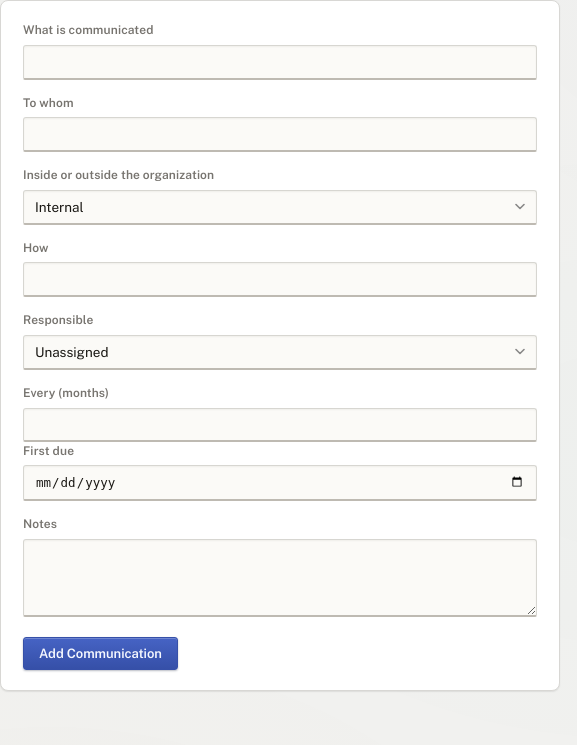
Test: CommunicationForm › won't take half a schedule
The image size is (577, 745).
In the field labelled "What is communicated": (280, 62) [23,45,537,80], type "Update"
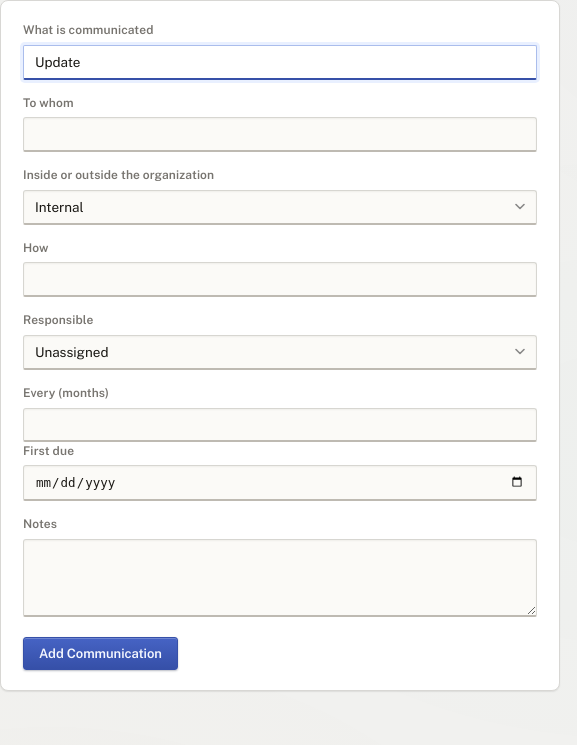
In the field labelled "To whom": (280, 135) [23,117,537,152], type "Staff"
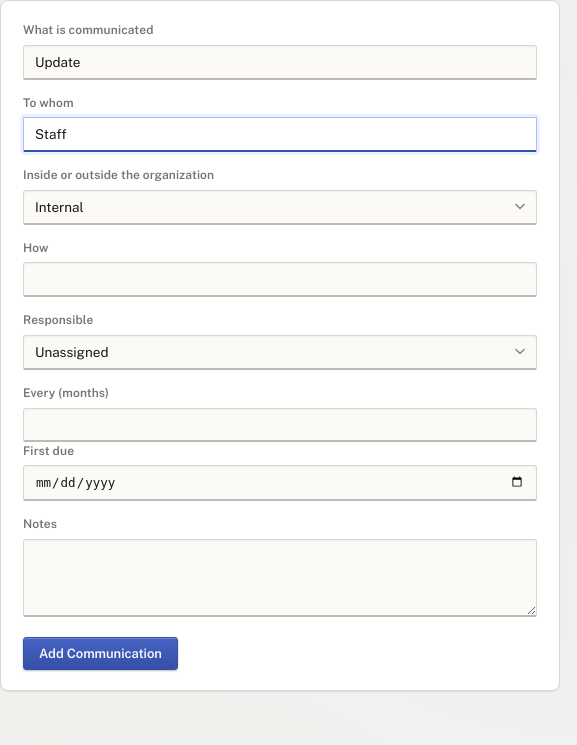
In the number field labelled "Every (months)": (280, 425) [23,408,537,442], type "6"
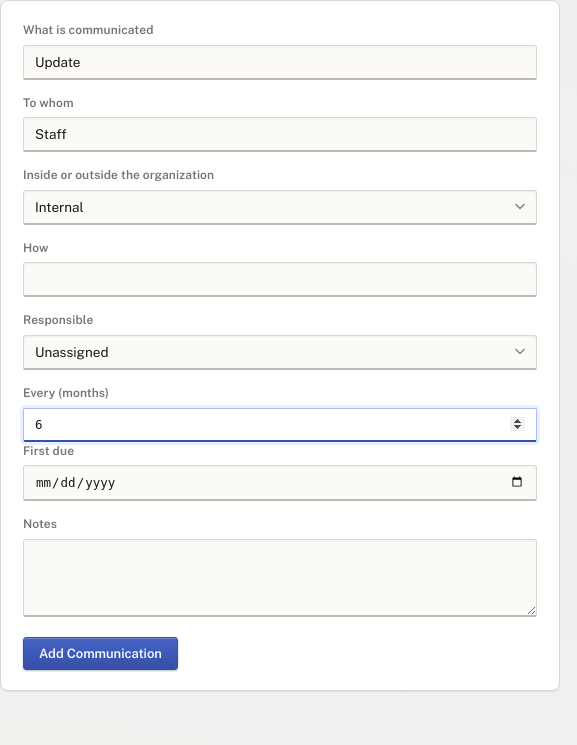
Click the button "Add Communication": (100, 654) [23,637,178,670]
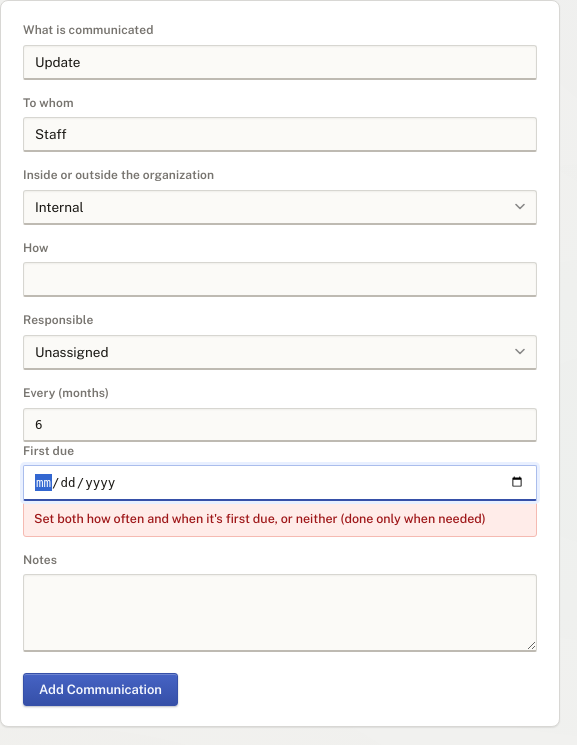
Expected: the text "Set both how often and when it's first due, or neither (done only when needed)" is shown, [23,501,537,537]
